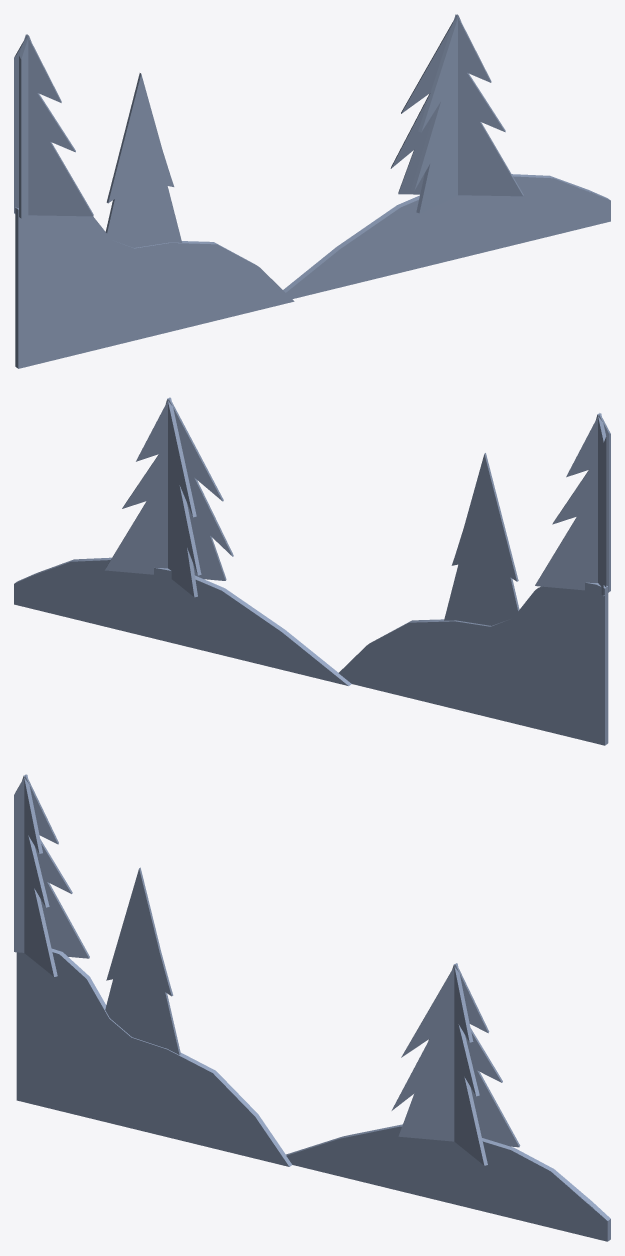
File: frame_0194.glb
The picture shows the model from 3 angles, top to bottom: view 1: azimuth 30°, elevation 25°; view 2: azimuth 150°, elevation 25°; view 3: azimuth 330°, elevation 25°; orthographic projection.
Parts seen in each view (by area): view 1: export_trees_001.002; view 2: export_trees_001.002; view 3: export_trees_001.002.
Part boxes in pixels (left/top/right/bottom): export_trees_001.002: left=14, top=14, right=610, bottom=368; export_trees_001.002: left=14, top=397, right=610, bottom=745; export_trees_001.002: left=14, top=774, right=610, bottom=1241.
Size of the model in its own units: 0.4327 by 0.2304 by 0.0506.
